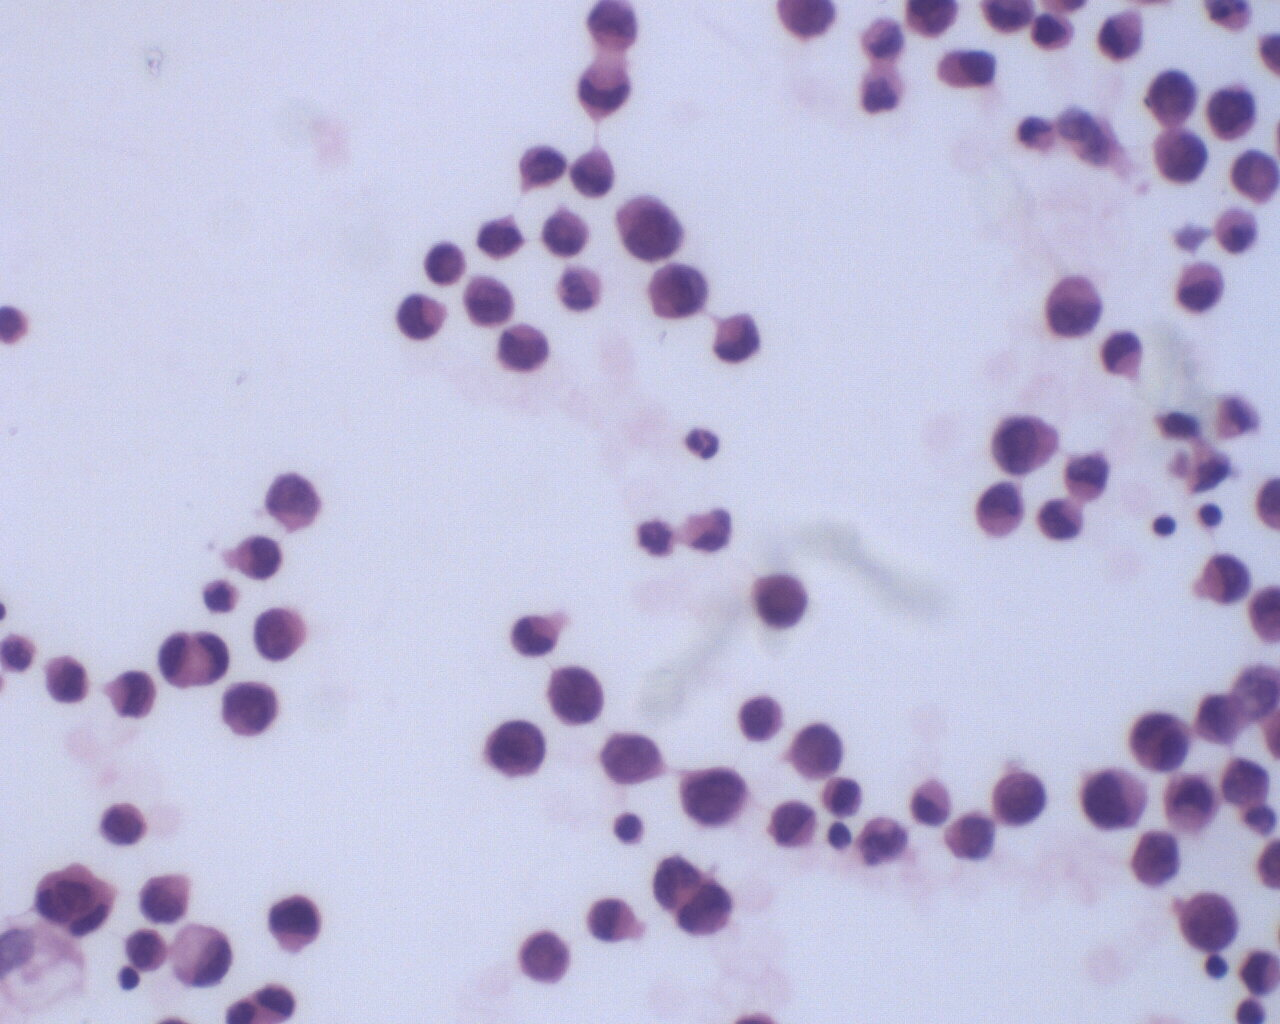ab: (615, 193, 690, 267), (677, 761, 753, 833), (749, 569, 815, 642), (1083, 766, 1151, 833), (993, 413, 1061, 476), (1044, 272, 1106, 341), (545, 666, 612, 728), (484, 718, 546, 783), (1177, 889, 1239, 953), (646, 263, 713, 323), (1204, 77, 1262, 144), (248, 601, 309, 664), (971, 479, 1029, 543), (1151, 125, 1212, 186), (218, 681, 281, 740), (1145, 63, 1202, 127), (990, 770, 1051, 829), (791, 721, 847, 785), (265, 893, 324, 954), (139, 871, 199, 928), (495, 320, 553, 374), (39, 653, 95, 707), (942, 808, 996, 865), (461, 274, 516, 327), (539, 206, 591, 258), (768, 796, 817, 851), (1176, 260, 1225, 315), (231, 533, 283, 582), (123, 928, 167, 977)
lymph: (611, 810, 648, 845), (1151, 511, 1177, 537)
neutro: (684, 425, 724, 465)
